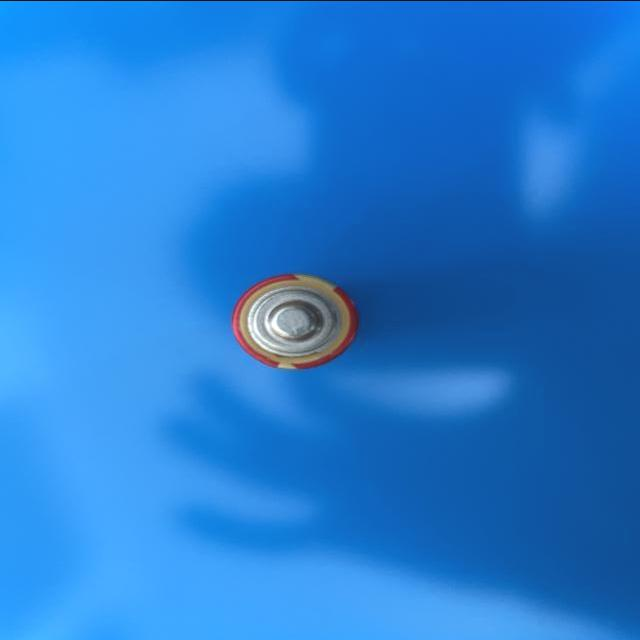AA: (229, 272, 363, 372)
